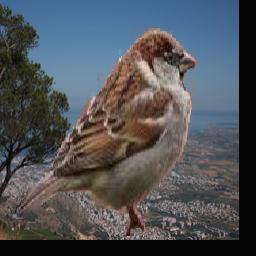Sparrow: (9, 29, 196, 237)
